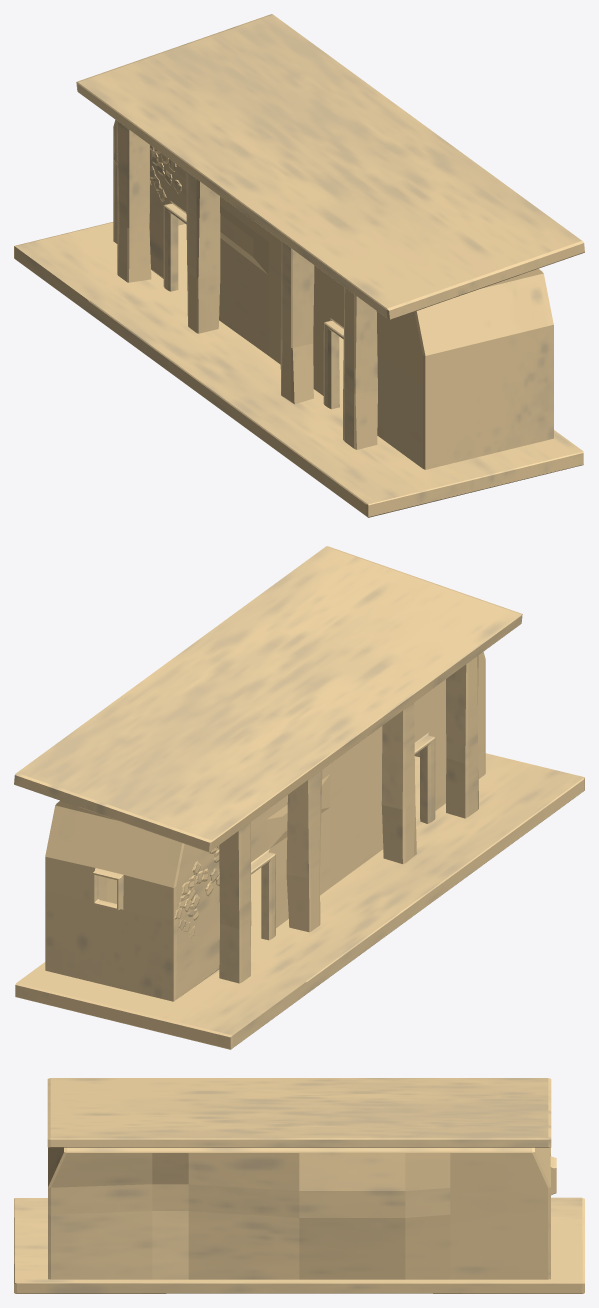
Rendered from grossemaiz.fbx.
The picture shows the model from 3 angles, top to bottom: view 1: azimuth 30°, elevation 25°; view 2: azimuth 150°, elevation 25°; view 3: azimuth 270°, elevation 25°; orthographic projection. The views are drawn at different scales.
Visible parts, largest first — view 1: Cube.003; view 2: Cube.003; view 3: Cube.003.
Part boxes in pixels (x1,y1,x2,y2): Cube.003: (14, 14, 584, 517); Cube.003: (14, 546, 584, 1049); Cube.003: (14, 1078, 584, 1293).
Size of the model in its own units: 4538 by 1766 by 1434.
